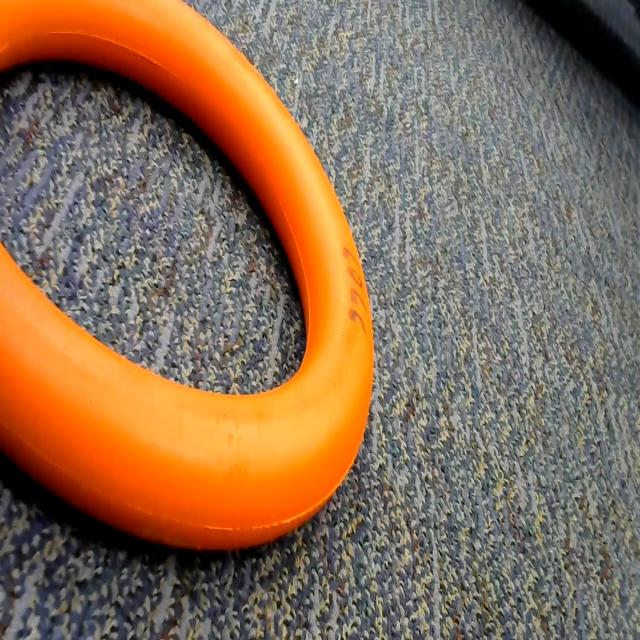note: (0, 0, 387, 565)
